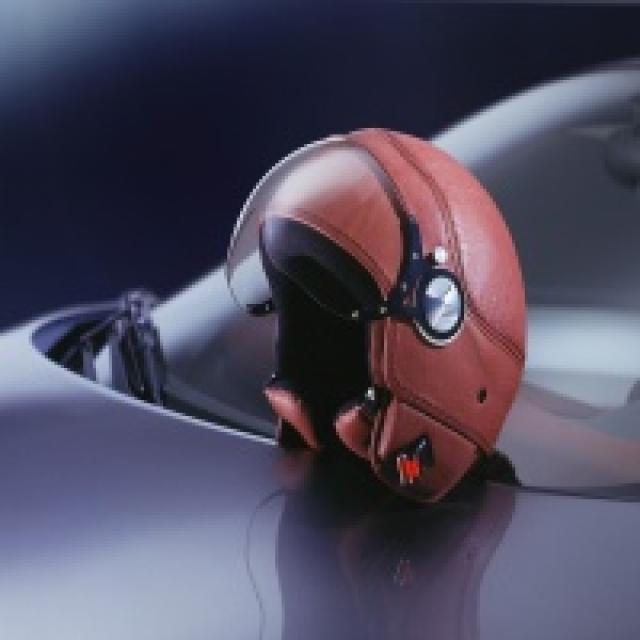Helmet: (225, 129, 525, 502)
